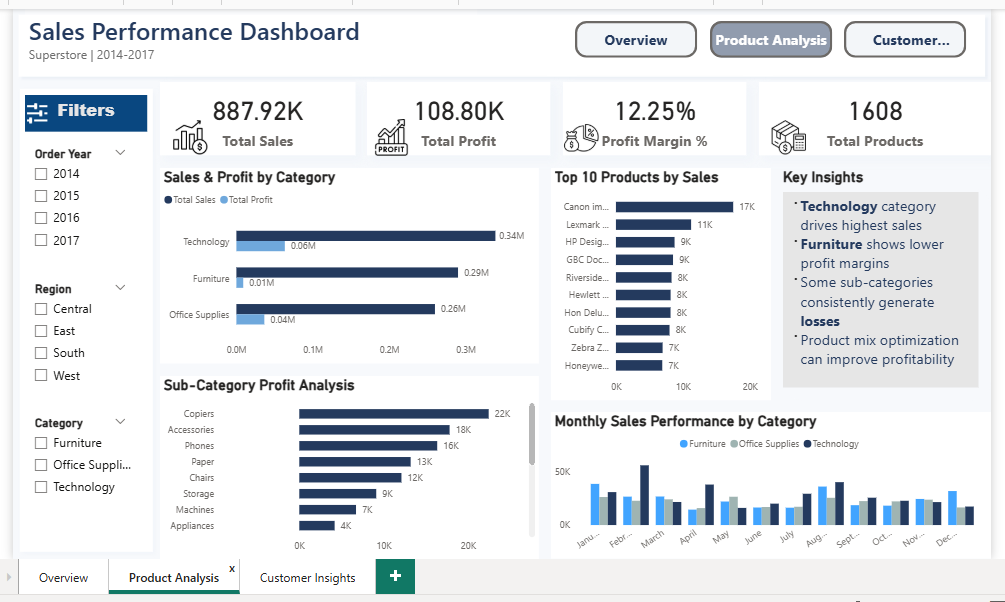

Layout of this report page (visuals, bound fields, positions):
{"tool":"powerbi","page":{"name":"Product Analysis","canvas":[1280,720],"ordinal":1},"visuals":[{"type":"shape","box":[0,0,1280,96],"z":0},{"type":"textbox","box":[16,0,592,80],"z":1000},{"type":"actionButton","box":[736,16,160,48],"z":2000},{"type":"actionButton","box":[912,16,160,48],"z":3000},{"type":"actionButton","box":[1088,16,160,48],"z":4000},{"type":"card","fields":{"Values":["Sales_Data.Total Sales"]},"box":[192,96,256,96],"z":5000},{"type":"card","fields":{"Values":["Sales_Data.Total Profit"]},"box":[464,96,240,96],"z":6000},{"type":"card","fields":{"Values":["Sales_Data.Profit Margin %"]},"box":[720,96,240,96],"z":7000},{"type":"card","fields":{"Values":["Sales_Data.Total Products"]},"box":[976,96,304,96],"z":8000},{"type":"shape","box":[0,96,192,624],"z":9000},{"type":"textbox","box":[16,112,160,48],"z":10000},{"type":"image","box":[16,112,32,48],"z":11000},{"type":"clusteredBarChart","title":"Sales & Profit by Category","fields":{"Category":["Sales_Data.Category"],"Y":["Sales_Data.Total Sales","Sales_Data.Total Profit"]},"box":[192,208,496,256],"z":12000},{"type":"clusteredBarChart","title":"Sub-Category Profit Analysis","fields":{"Category":["Sales_Data.Sub-Category"],"Y":["Sales_Data.Total Profit"]},"box":[192,480,496,240],"z":13000},{"type":"barChart","title":"Top 10 Products by Sales","fields":{"Category":["Sales_Data.Product Name"],"Y":["Sales_Data.Total Sales"]},"box":[704,208,288,304],"z":14000},{"type":"slicer","fields":{"Values":["Sales_Data.Order Year"]},"box":[16,176,144,160],"z":15000},{"type":"slicer","fields":{"Values":["Sales_Data.Region"]},"box":[16,352,144,160],"z":16000},{"type":"slicer","fields":{"Values":["Sales_Data.Category"]},"box":[16,528,144,144],"z":17000},{"type":"shape","title":"Key Insights","box":[1008,208,272,304],"z":18000},{"type":"textbox","box":[1008,240,256,256],"z":19000},{"type":"clusteredColumnChart","title":"Monthly Sales Performance by Category","fields":{"Category":["Sales_Data.Order Month Name"],"Y":["Sales_Data.Total Sales"],"Series":["Sales_Data.Category"]},"box":[704,528,576,192],"z":20000},{"type":"image","box":[208,144,48,48],"z":21000},{"type":"image","box":[464,144,64,48],"z":22000},{"type":"image","box":[720,112,48,112],"z":23000},{"type":"image","box":[960,144,112,48],"z":24000}]}

Visuals, with their boxes on the page's 1280x720 design canvas (x1, y1, x2, y2). These are canvas units, not pixel positions in the 1005x602 screenshot, which may show the page scaled, cropped or inside an application window:
shape: {"left": 0, "top": 0, "right": 1280, "bottom": 96}
textbox: {"left": 16, "top": 0, "right": 608, "bottom": 80}
actionButton: {"left": 736, "top": 16, "right": 896, "bottom": 64}
actionButton: {"left": 912, "top": 16, "right": 1072, "bottom": 64}
actionButton: {"left": 1088, "top": 16, "right": 1248, "bottom": 64}
card - Sales_Data.Total Sales: {"left": 192, "top": 96, "right": 448, "bottom": 192}
card - Sales_Data.Total Profit: {"left": 464, "top": 96, "right": 704, "bottom": 192}
card - Sales_Data.Profit Margin %: {"left": 720, "top": 96, "right": 960, "bottom": 192}
card - Sales_Data.Total Products: {"left": 976, "top": 96, "right": 1280, "bottom": 192}
shape: {"left": 0, "top": 96, "right": 192, "bottom": 720}
textbox: {"left": 16, "top": 112, "right": 176, "bottom": 160}
image: {"left": 16, "top": 112, "right": 48, "bottom": 160}
"Sales & Profit by Category" clusteredBarChart: {"left": 192, "top": 208, "right": 688, "bottom": 464}
"Sub-Category Profit Analysis" clusteredBarChart: {"left": 192, "top": 480, "right": 688, "bottom": 720}
"Top 10 Products by Sales" barChart: {"left": 704, "top": 208, "right": 992, "bottom": 512}
slicer - Sales_Data.Order Year: {"left": 16, "top": 176, "right": 160, "bottom": 336}
slicer - Sales_Data.Region: {"left": 16, "top": 352, "right": 160, "bottom": 512}
slicer - Sales_Data.Category: {"left": 16, "top": 528, "right": 160, "bottom": 672}
"Key Insights" shape: {"left": 1008, "top": 208, "right": 1280, "bottom": 512}
textbox: {"left": 1008, "top": 240, "right": 1264, "bottom": 496}
"Monthly Sales Performance by Category" clusteredColumnChart: {"left": 704, "top": 528, "right": 1280, "bottom": 720}
image: {"left": 208, "top": 144, "right": 256, "bottom": 192}
image: {"left": 464, "top": 144, "right": 528, "bottom": 192}
image: {"left": 720, "top": 112, "right": 768, "bottom": 224}
image: {"left": 960, "top": 144, "right": 1072, "bottom": 192}
